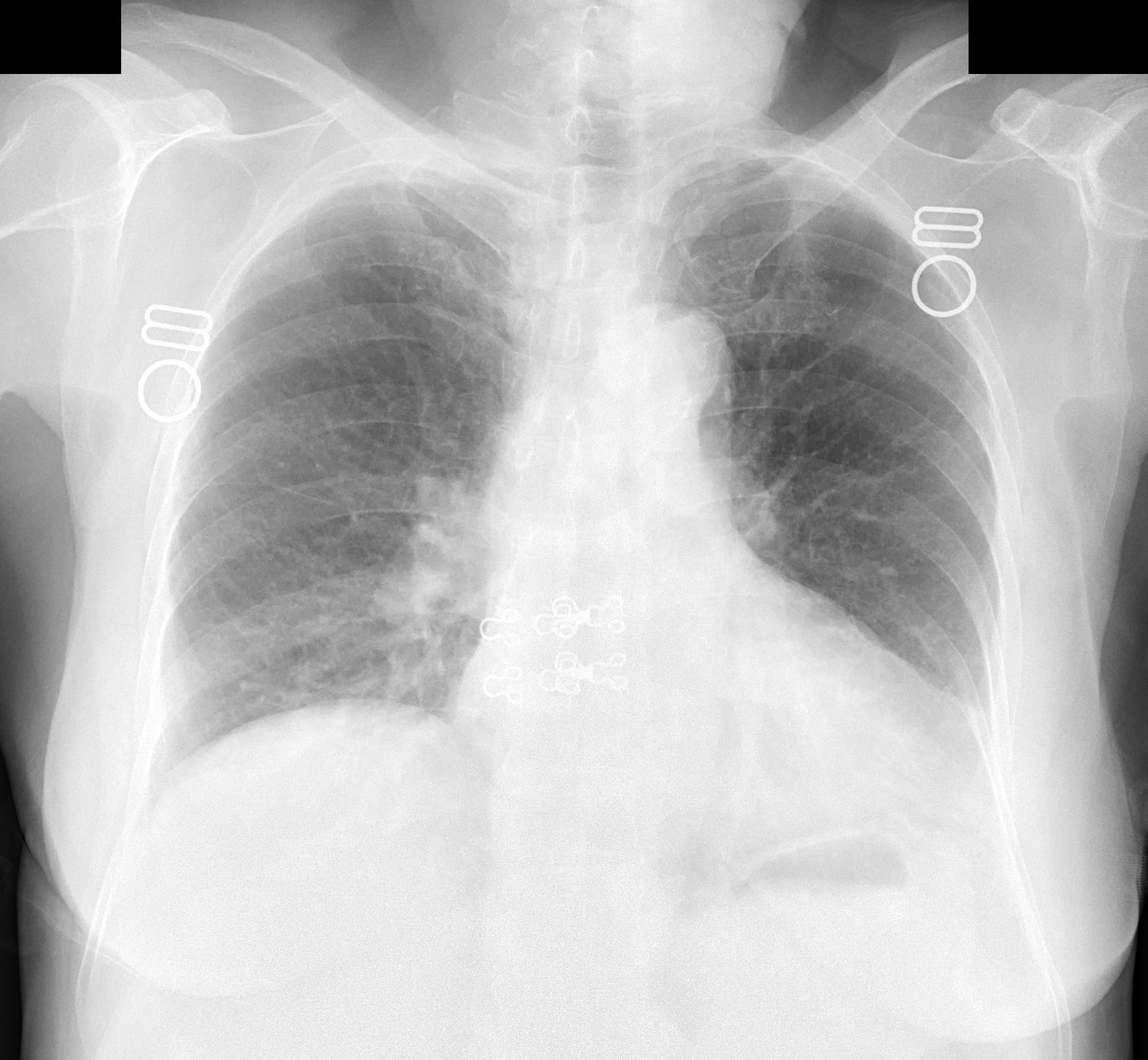Aortic enlargement: (592, 300, 736, 446)
Cardiomegaly: (455, 630, 987, 845)
Pleural thickening: (329, 138, 540, 185)
